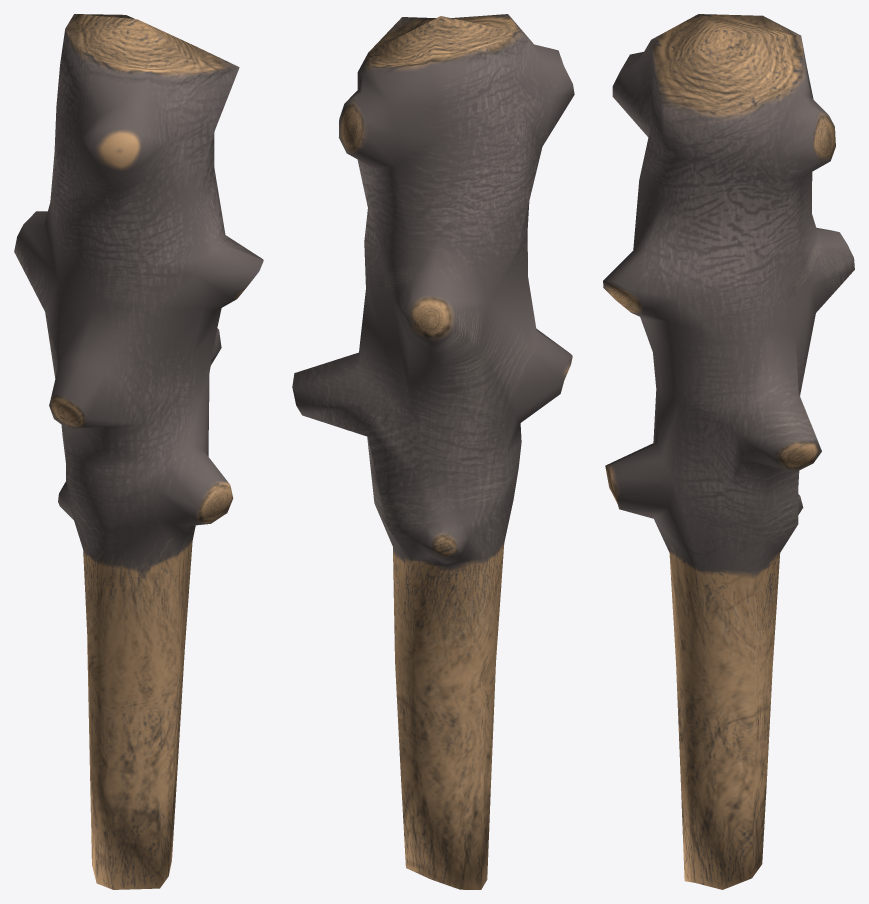
Rendered from Club Model.fbx.
3 renders of one model, left to right at view 1: azimuth 30°, elevation 25°; view 2: azimuth 150°, elevation 25°; view 3: azimuth 270°, elevation 25°, orthographic.
Parts seen in each view (by area): view 1: Club; view 2: Club; view 3: Club.
Boxes of the visible parts, <box> form: Club: <box>14,14,263,889</box>; Club: <box>292,14,574,889</box>; Club: <box>603,14,854,889</box>.
Bounding box in the file's own units: 53.54 × 202 × 54.25.
